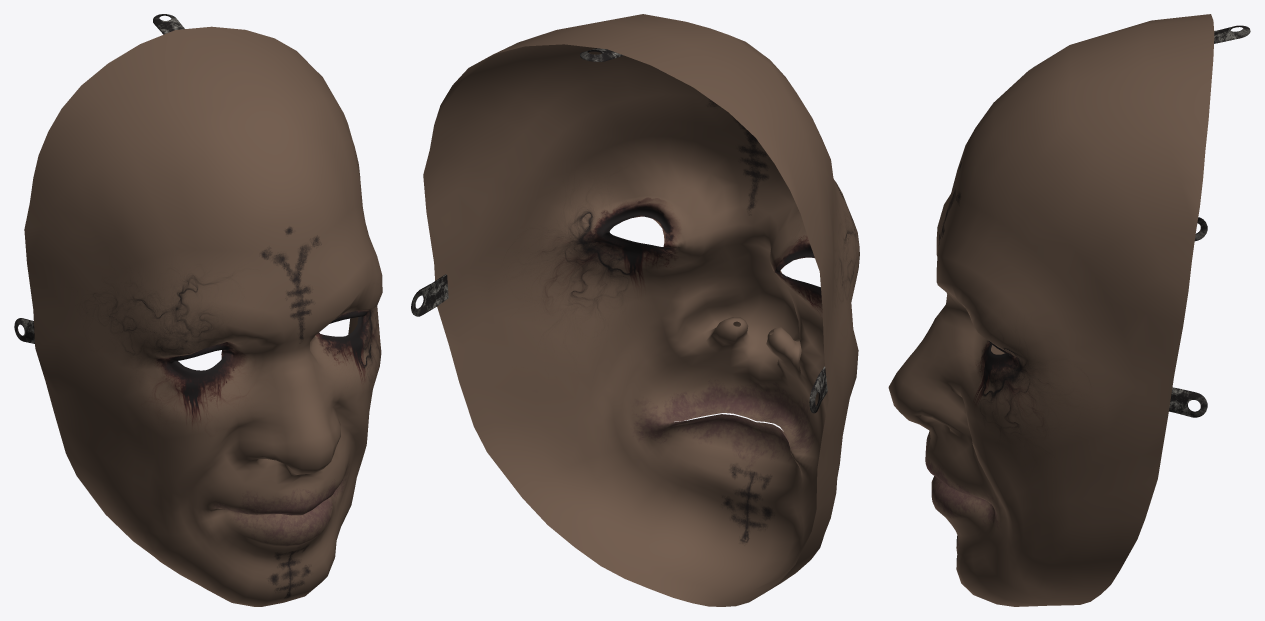
File: masklp.obj
The picture shows the model from 3 angles, left to right: view 1: azimuth 30°, elevation 25°; view 2: azimuth 150°, elevation 25°; view 3: azimuth 270°, elevation 25°; orthographic projection. The views are drawn at different scales.
Visible parts, largest first — view 1: Mesh_0; view 2: Mesh_0; view 3: Mesh_0.
Boxes of the visible parts, box(x1,y1,x2,y2) form: Mesh_0: box(14, 14, 382, 606); Mesh_0: box(411, 14, 859, 606); Mesh_0: box(888, 14, 1250, 606).
Size of the model in its own units: 0.2412 by 0.358 by 0.2061.
